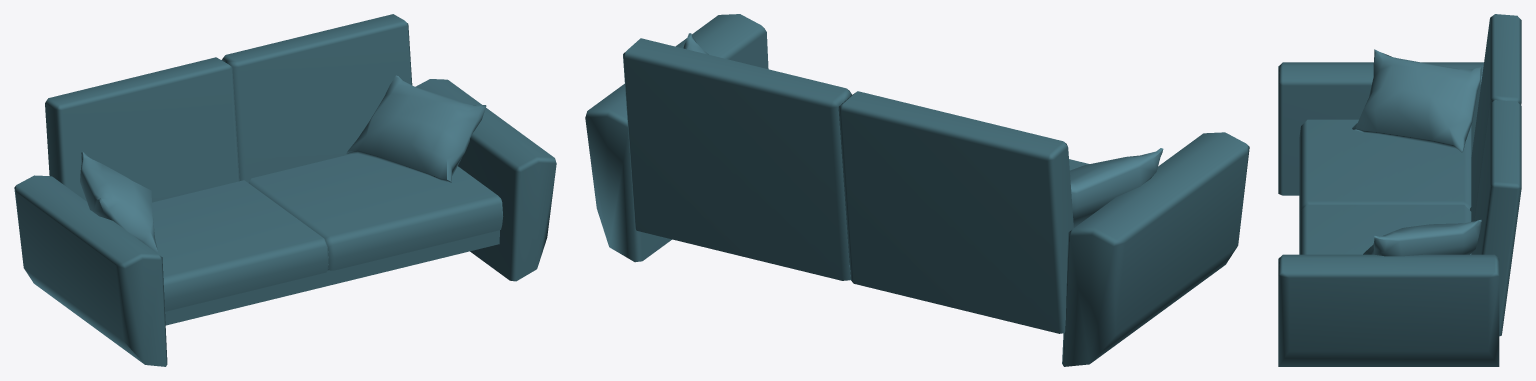
The model's file is SM_sofa_001.FBX.
3 renders of one model, left to right at view 1: azimuth 30°, elevation 25°; view 2: azimuth 150°, elevation 25°; view 3: azimuth 270°, elevation 25°, orthographic. The views are drawn at different scales.
Visible parts, largest first — view 1: SM_sofa_001; view 2: SM_sofa_001; view 3: SM_sofa_001.
Boxes of the visible parts, x1=… form: SM_sofa_001: x1=14, y1=14, x2=556, y2=366; SM_sofa_001: x1=585, y1=14, x2=1249, y2=366; SM_sofa_001: x1=1278, y1=14, x2=1521, y2=366.
Bounding box in the file's own units: 197 × 94.91 × 77.9.
